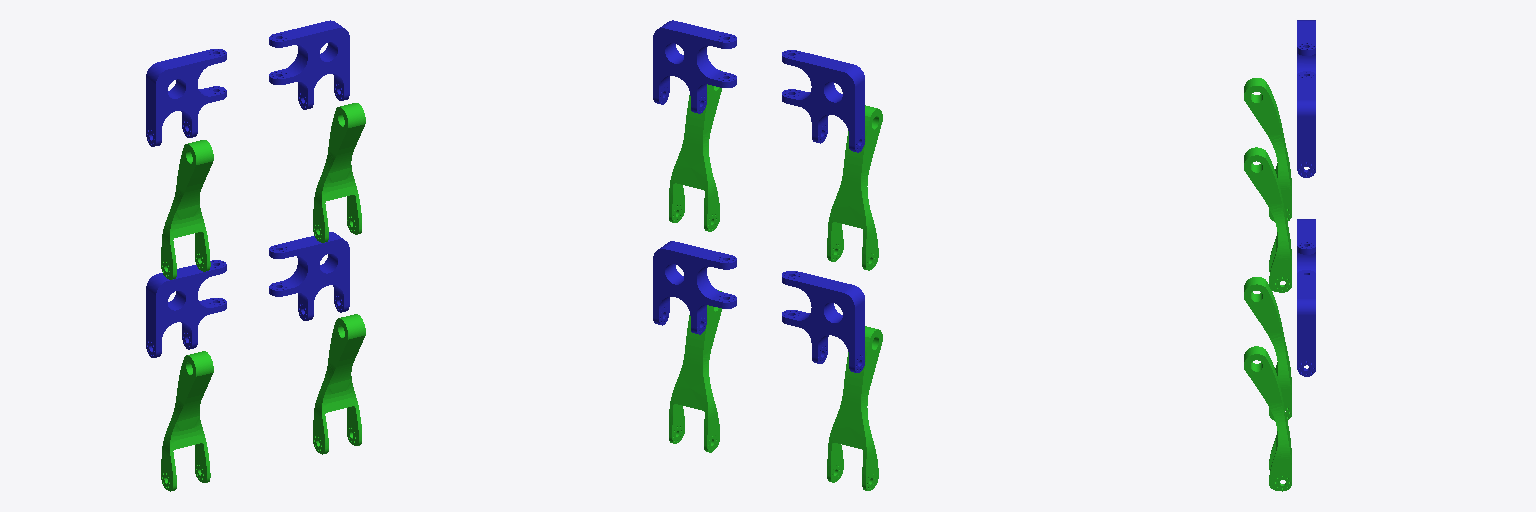
URDF robot description (quadruped):
<?xml version="1.0"?>
<robot name="quadruped">

  <!-- Base body link -->
  <link name="body">
    <visual>
      <geometry>
        <mesh filename="../meshes/body_with_motor_v1.stl" scale="0.001 0.001 0.001"/>
      </geometry>
      <material name="body_color">
        <color rgba="0.8 0.8 0.8 1.0"/>
      </material>
    </visual>
  </link>

  <!-- Front left coupler -->
  <link name="front_left_coupler">
    <visual>
      <geometry>
        <mesh filename="../meshes/coupler_v1.stl" scale="0.001 0.001 0.001"/>
      </geometry>
      <material name="coupler_color">
        <color rgba="0.2 0.2 0.8 1.0"/>
      </material>
    </visual>
  </link>

  <!-- Front Right coupler -->
  <link name="front_right_coupler">
    <visual>
      <geometry>
        <mesh filename="../meshes/coupler_v1.stl" scale="0.001 0.001 0.001"/>
      </geometry>
      <material name="coupler_color">
        <color rgba="0.2 0.2 0.8 1.0"/>
      </material>
    </visual>
  </link>

  <!-- Back left coupler -->
  <link name="back_left_coupler">
    <visual>
      <geometry>
        <mesh filename="../meshes/coupler_v1.stl" scale="0.001 0.001 0.001"/>
      </geometry>
      <material name="coupler_color">
        <color rgba="0.2 0.2 0.8 1.0"/>
      </material>
    </visual>
  </link>
  
  <!-- Back Right coupler -->
  <link name="back_right_coupler">
    <visual>
      <geometry>
        <mesh filename="../meshes/coupler_v1.stl" scale="0.001 0.001 0.001"/>
      </geometry>
      <material name="coupler_color">
        <color rgba="0.2 0.2 0.8 1.0"/>
      </material>
    </visual>
  </link>

  <!-- Front left upper leg -->
  <link name="front_left_upper_leg">
    <visual>
      <geometry>
        <mesh filename="../meshes/leg_upper_with_motor_v1.5.stl" scale="0.001 0.001 0.001"/>
      </geometry>
      <material name="leg_color">
        <color rgba="0.8 0.2 0.2 1.0"/>
      </material>
    </visual>
  </link>

  <!-- Front right upper leg -->
  <link name="front_right_upper_leg">
    <visual>
      <geometry>
        <mesh filename="../meshes/leg_upper_with_motor_v1.5.stl" scale="0.001 0.001 0.001"/>
      </geometry>
      <material name="leg_color">
        <color rgba="0.8 0.2 0.2 1.0"/>
      </material>
    </visual>
  </link>

  <!-- Back left upper leg -->
  <link name="back_left_upper_leg">
    <visual>
      <geometry>
        <mesh filename="../meshes/leg_upper_with_motor_v1.5.stl" scale="0.001 0.001 0.001"/>
      </geometry>
      <material name="leg_color">
        <color rgba="0.8 0.2 0.2 1.0"/>
      </material>
    </visual>
  </link>

  <!-- Back right upper leg -->
  <link name="back_right_upper_leg">
    <visual>
      <geometry>
        <mesh filename="../meshes/leg_upper_with_motor_v1.5.stl" scale="0.001 0.001 0.001"/>
      </geometry>
      <material name="leg_color">
        <color rgba="0.8 0.2 0.2 1.0"/>
      </material>
    </visual>
  </link>

  <!-- Front left lower leg -->
  <link name="front_left_lower_leg">
    <visual>
      <geometry>
        <mesh filename="../meshes/leg_lower_v3.stl" scale="0.001 0.001 0.001"/>
      </geometry>
      <material name="lower_leg_color">
        <color rgba="0.2 0.8 0.2 1.0"/>
      </material>
    </visual>
  </link>

  <!-- Front right lower leg -->
  <link name="front_right_lower_leg">
    <visual>
      <geometry>
        <mesh filename="../meshes/leg_lower_v3.stl" scale="0.001 0.001 0.001"/>
      </geometry>
      <material name="lower_leg_color">
        <color rgba="0.2 0.8 0.2 1.0"/>
      </material>
    </visual>
  </link>

  <!-- Back left lower leg -->
  <link name="back_left_lower_leg">
    <visual>
      <geometry>
        <mesh filename="../meshes/leg_lower_v3.stl" scale="0.001 0.001 0.001"/>
      </geometry>
      <material name="lower_leg_color">
        <color rgba="0.2 0.8 0.2 1.0"/>
      </material>
    </visual>
  </link>

  <!-- Back right lower leg -->
  <link name="back_right_lower_leg">
    <visual>
      <geometry>
        <mesh filename="../meshes/leg_lower_v3.stl" scale="0.001 0.001 0.001"/>
      </geometry>
      <material name="lower_leg_color">
        <color rgba="0.2 0.8 0.2 1.0"/>
      </material>
    </visual>
  </link>

<!-- Joint connecting body to back right coupler -->
  <joint name="back_right_hipX" type="revolute">
    <parent link="body"/>
    <child link="back_right_coupler"/>
    <origin xyz="0.0 0.0 0.0" rpy="0 0 3.14"/>
    <axis xyz="0 0 1"/>
    <limit lower="-1.57" upper="1.57" effort="10.0" velocity="5.0"/>
  </joint>

  <!-- Joint connecting body to back left coupler -->
  <joint name="back_left_hipX" type="revolute">
    <parent link="body"/>
    <child link="back_left_coupler"/>
    <origin xyz="0.1083 0.0 0.0" rpy="0 0 0.0"/>
    <axis xyz="0 0 1"/>
    <limit lower="-1.57" upper="1.57" effort="10.0" velocity="5.0"/>
  </joint>

  <!-- Joint connecting body to front left coupler -->
  <joint name="front_left_hipX" type="revolute">
    <parent link="body"/>
    <child link="front_left_coupler"/>
    <origin xyz="0.1083 -0.0 0.3491" rpy="0 0 0"/>
    <axis xyz="0 0 1"/>
    <limit lower="-1.57" upper="1.57" effort="10.0" velocity="5.0"/>
  </joint>

  <!-- Joint connecting body to front right coupler -->
  <joint name="front_right_hipX" type="revolute">
    <parent link="body"/>
    <child link="front_right_coupler"/>
    <origin xyz="0.0 -0.0 0.3491" rpy="0 0 3.14"/>
    <axis xyz="0 0 1"/>
    <limit lower="-1.57" upper="1.57" effort="10.0" velocity="5.0"/>
  </joint>

  <!-- Joint connecting back right coupler to upper leg -->
  <joint name="back_right_hipY" type="revolute">
    <parent link="back_right_coupler"/>
    <child link="back_right_upper_leg"/>
    <origin xyz="0.077 0.0 -0.077" rpy="0 1.57 3.14"/>
    <axis xyz="0 0 1"/>
    <limit lower="-1.57" upper="1.57" effort="10.0" velocity="5.0"/>
  </joint>

  <!-- Joint connecting back left coupler to upper leg -->
  <joint name="back_left_hipY" type="revolute">
    <parent link="back_left_coupler"/>
    <child link="back_left_upper_leg"/>
    <origin xyz="0.077 0.0 -0.077" rpy="0 1.57 0.0"/>
    <axis xyz="0 0 1"/>
    <limit lower="-1.57" upper="1.57" effort="10.0" velocity="5.0"/>
  </joint>

  <!-- Joint connecting front left coupler to upper leg -->
  <joint name="front_left_hipY" type="revolute">
    <parent link="front_left_coupler"/>
    <child link="front_left_upper_leg"/>
    <origin xyz="0.077 0.0 -0.077" rpy="0 1.57 0"/>
    <axis xyz="0 0 1"/>
    <limit lower="-1.57" upper="1.57" effort="10.0" velocity="5.0"/>
  </joint>

  <!-- Joint connecting front right coupler to upper leg -->
  <joint name="front_right_hipY" type="revolute">
    <parent link="front_right_coupler"/>
    <child link="front_right_upper_leg"/>
    <origin xyz="0.077 0.0 -0.077" rpy="0 1.57 3.14"/>
    <axis xyz="0 0 1"/>
    <limit lower="-1.57" upper="1.57" effort="10.0" velocity="5.0"/>
  </joint>

  <!-- Joint connecting back right upper leg to lower leg -->
  <joint name="back_right_knee" type="revolute">
    <parent link="back_right_upper_leg"/>
    <child link="back_right_lower_leg"/>
    <origin xyz="0.203 -0.038 0.0" rpy="0 3.14 0"/>
    <axis xyz="0 0 1"/>
    <limit lower="-1.57" upper="1.57" effort="10.0" velocity="5.0"/>
  </joint>

  <!-- Joint connecting back left upper leg to lower leg -->
  <joint name="back_left_knee" type="revolute">
    <parent link="back_left_upper_leg"/>
    <child link="back_left_lower_leg"/>
    <origin xyz="0.203 -0.038 0.0" rpy="0 3.14 0"/>
    <axis xyz="0 0 1"/>
    <limit lower="-1.57" upper="1.57" effort="10.0" velocity="5.0"/>
  </joint>

  <!-- Joint connecting front left upper leg to lower leg -->
  <joint name="front_left_knee" type="revolute">
    <parent link="front_left_upper_leg"/>
    <child link="front_left_lower_leg"/>
    <origin xyz="0.203 -0.038 0.0" rpy="0 3.14 0"/>
    <axis xyz="0 0 1"/>
    <limit lower="-1.57" upper="1.57" effort="10.0" velocity="5.0"/>
  </joint>

  <!-- Joint connecting front right upper leg to lower leg -->
  <joint name="front_right_knee" type="revolute">
    <parent link="front_right_upper_leg"/>
    <child link="front_right_lower_leg"/>
    <origin xyz="0.203 -0.038 0.0" rpy="0 3.14 0"/>
    <axis xyz="0 0 1"/>
    <limit lower="-1.57" upper="1.57" effort="10.0" velocity="5.0"/>
  </joint>

</robot>

--- Facts derived from the render (not from the file) ---
Views: 3 orthographic renders of the robot side by side, from view 1: azimuth 30°, elevation 25°; view 2: azimuth 150°, elevation 25°; view 3: azimuth 270°, elevation 25°.
Robot: quadruped — 13 links, 12 joints (12 revolute); root link body; default pose: all joints at 0.
Links seen in each view (by area): view 1: front_right_coupler, front_left_coupler, back_right_coupler, back_left_coupler, front_right_lower_leg, back_right_lower_leg, back_left_lower_leg, front_left_lower_leg; view 2: front_right_coupler, back_right_coupler, back_left_coupler, front_left_coupler, back_right_lower_leg, front_right_lower_leg, back_left_lower_leg, front_left_lower_leg; view 3: front_left_lower_leg, back_left_lower_leg, front_right_lower_leg, back_right_lower_leg, front_left_coupler, back_left_coupler, front_right_coupler, back_right_coupler.
Boxes of the visible links, box(x1,y1,x2,y2) form: front_right_coupler: box(146, 49, 226, 146); front_left_coupler: box(269, 20, 349, 109); back_right_coupler: box(146, 260, 226, 357); back_left_coupler: box(269, 232, 349, 320); front_right_lower_leg: box(161, 140, 213, 279); back_right_lower_leg: box(161, 351, 213, 491); back_left_lower_leg: box(313, 314, 365, 454); front_left_lower_leg: box(313, 103, 365, 242); front_right_coupler: box(782, 50, 864, 152); back_right_coupler: box(782, 271, 864, 372); back_left_coupler: box(653, 241, 736, 334); front_left_coupler: box(653, 20, 736, 113); back_right_lower_leg: box(827, 326, 882, 490); front_right_lower_leg: box(827, 105, 882, 270); back_left_lower_leg: box(669, 290, 721, 452); front_left_lower_leg: box(669, 70, 721, 231); front_left_lower_leg: box(1244, 147, 1291, 292); back_left_lower_leg: box(1244, 346, 1291, 491); front_right_lower_leg: box(1244, 78, 1291, 221); back_right_lower_leg: box(1244, 277, 1291, 420); front_left_coupler: box(1297, 71, 1315, 177); back_left_coupler: box(1297, 270, 1315, 376); front_right_coupler: box(1297, 20, 1315, 73); back_right_coupler: box(1297, 219, 1315, 272).
Bounding box of the posed robot: 0.3343 × 0.1155 × 0.6802 m (x, y, z).
8 mesh visuals loaded from 4 distinct referenced files (2 binary STL); not drawn: 5 (reference not matched to a file when rendering).